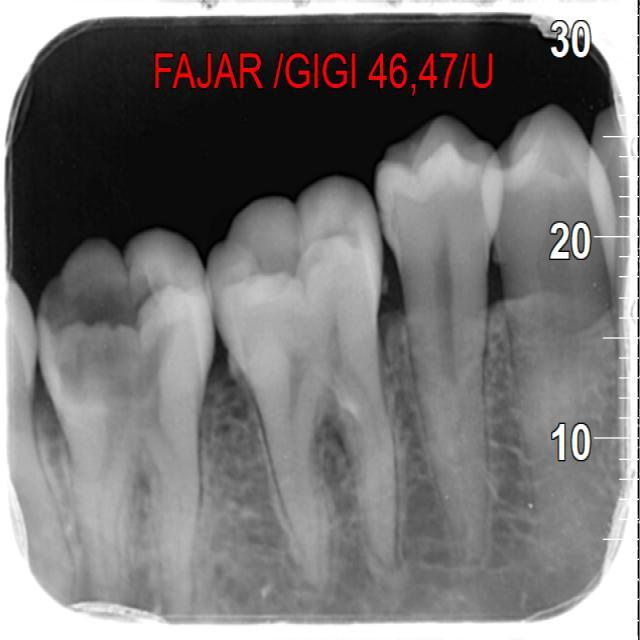individual-tooth-8tto: (213, 178, 400, 591), (31, 234, 218, 612)
